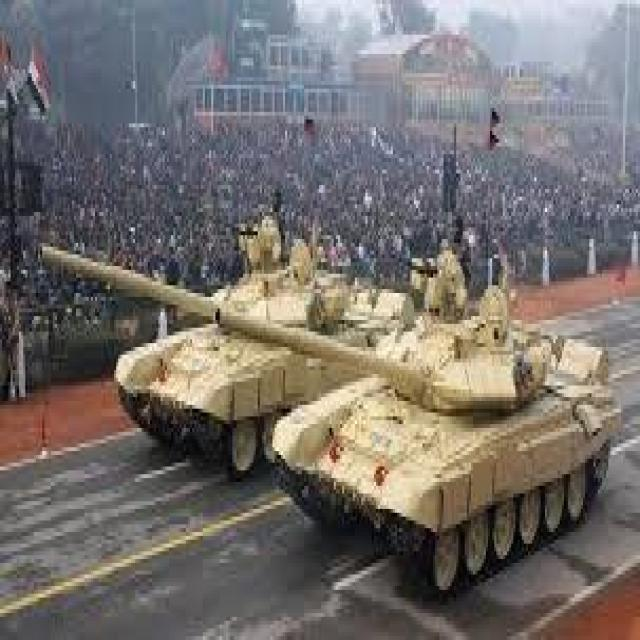Tanks: (52, 114, 388, 568), (314, 225, 574, 619)
